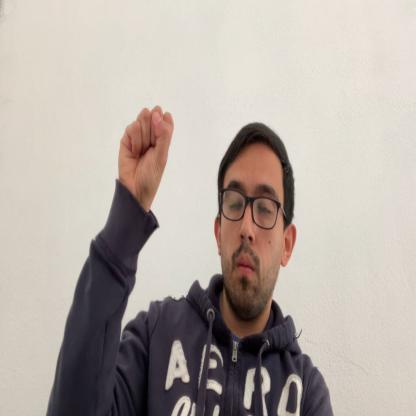S: (118, 107, 173, 199)
